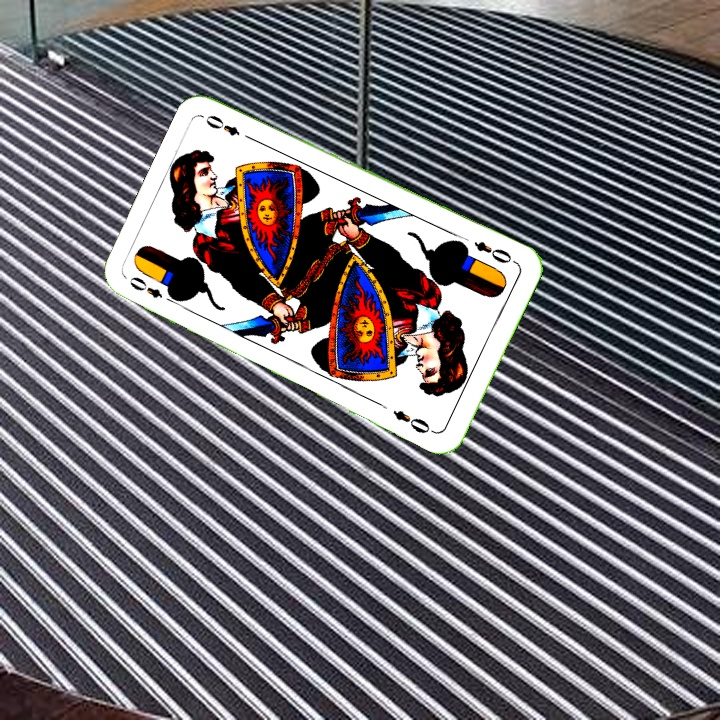EO: (470, 237, 519, 267), (125, 272, 165, 301)
